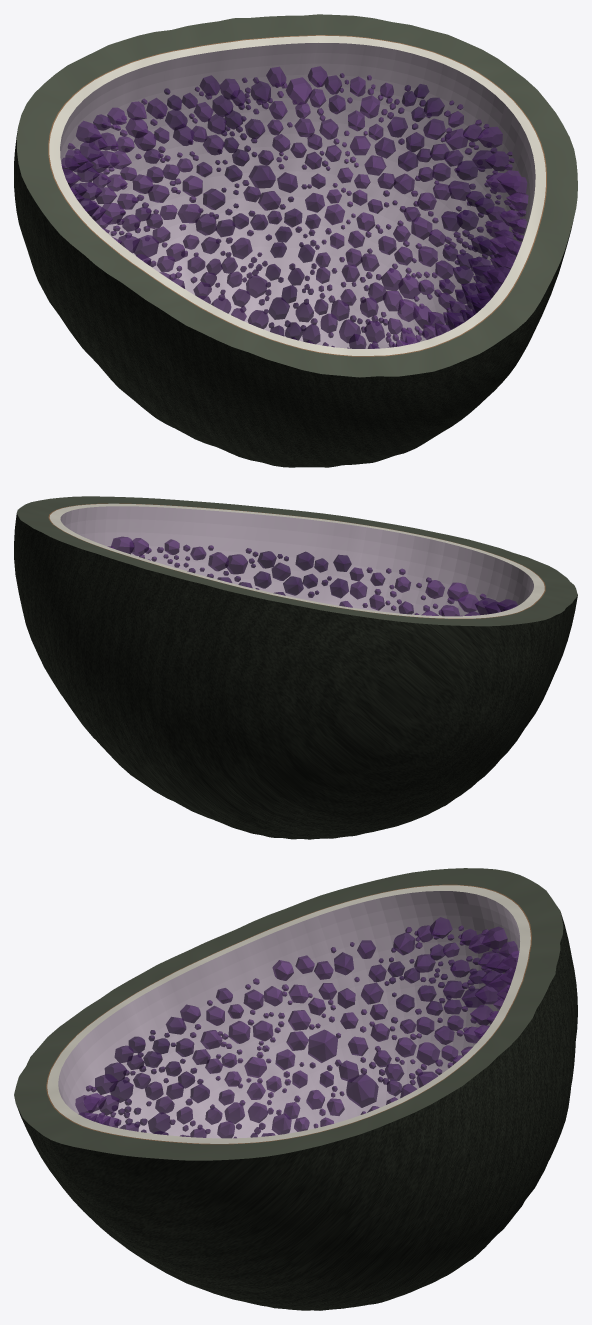
Rendered from specimen.glb.
3 renders of one model, top to bottom at view 1: azimuth 30°, elevation 25°; view 2: azimuth 150°, elevation 25°; view 3: azimuth 270°, elevation 25°, orthographic. The views are drawn at different scales.
Parts seen in each view (by area): view 1: cavity-lining, amethyst-growth, outer-shell, rim-2, rim-0, rim-1; view 2: outer-shell, cavity-lining, rim-2, amethyst-growth, rim-0, rim-1; view 3: outer-shell, cavity-lining, amethyst-growth, rim-2, rim-0, rim-1.
Boxes of the visible parts, x1,y1,x2,y2 form: cavity-lining: (60,43,535,348); amethyst-growth: (61,66,528,348); outer-shell: (14,129,572,467); rim-2: (16,14,577,377); rim-0: (49,35,545,355); rim-1: (48,35,546,356); outer-shell: (14,513,577,839); cavity-lining: (60,506,533,615); rim-2: (17,496,577,626); amethyst-growth: (107,536,517,616); rim-0: (49,503,544,618); rim-1: (48,503,545,618); outer-shell: (16,912,577,1310); cavity-lining: (58,891,519,1138); amethyst-growth: (75,917,519,1138); rim-2: (14,868,563,1160); rim-0: (47,885,530,1143); rim-1: (46,884,531,1144).
Bounding box in the file's own units: 0.0501 × 0.0312 × 0.0476.
4 materials, 1 textured.
